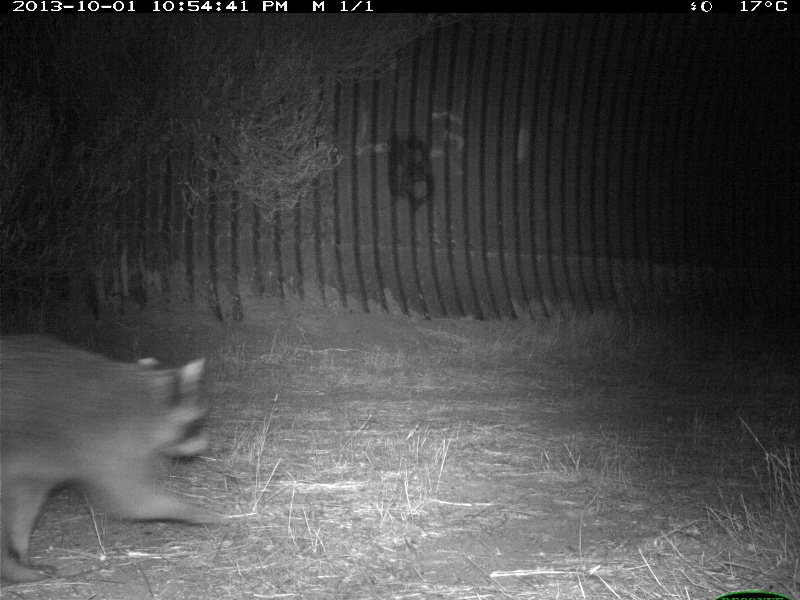raccoon: (1, 333, 231, 580)
